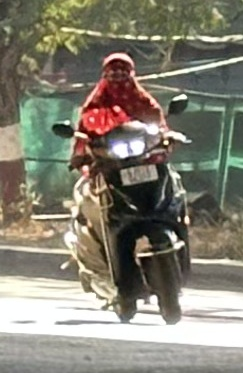BikeWithRider: (51, 47, 202, 331)
NoHelmet: (100, 50, 140, 95)
